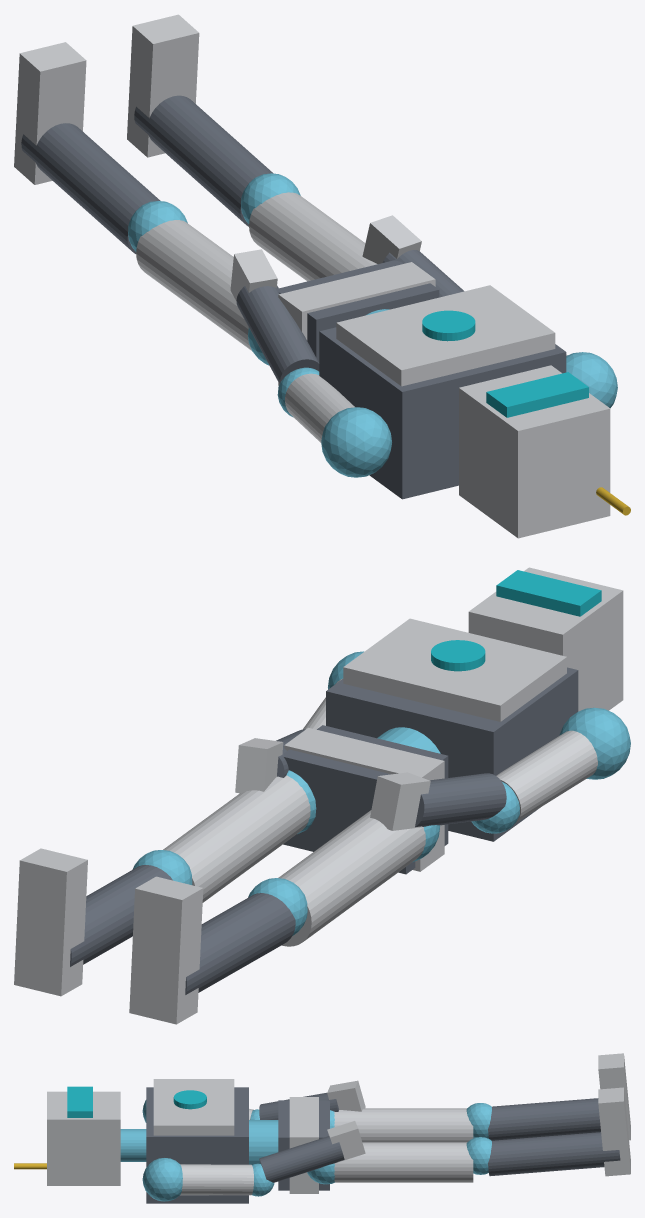
Rendered from humanoid_robot.glb.
3 renders of one model, top to bottom at view 1: azimuth 30°, elevation 25°; view 2: azimuth 150°, elevation 25°; view 3: azimuth 270°, elevation 25°, orthographic. The views are drawn at different scales.
Visible parts, largest first — view 1: world; view 2: world; view 3: world.
Part boxes in pixels (x1,y1,x2,y2): world: [14, 14, 630, 538]; world: [14, 567, 630, 1024]; world: [14, 1053, 630, 1203].
Size of the model in its own units: 0.56 by 0.3047 by 1.68.
